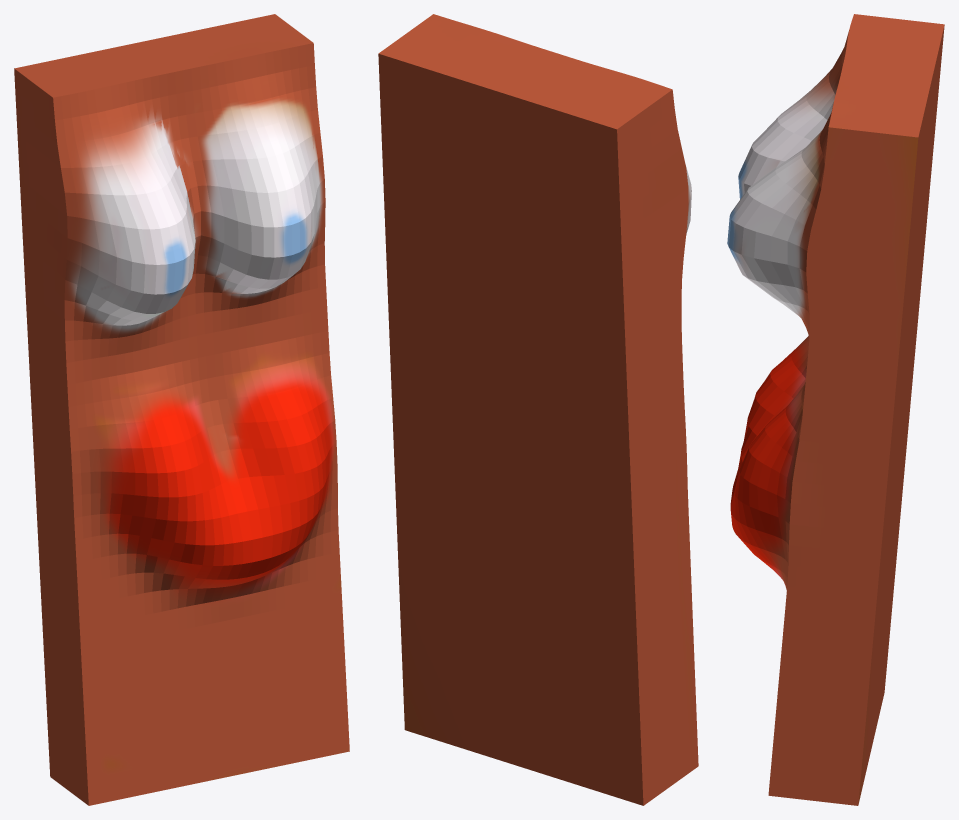
Rendered from hairy brick emnime 1.fbx.
The picture shows the model from 3 angles, left to right: view 1: azimuth 30°, elevation 25°; view 2: azimuth 150°, elevation 25°; view 3: azimuth 270°, elevation 25°; orthographic projection. The views are drawn at different scales.
Parts seen in each view (by area): view 1: Cube; view 2: Cube; view 3: Cube.
Part boxes in pixels (x1,y1,x2,y2): Cube: (14,14,349,805); Cube: (378,14,698,805); Cube: (727,14,944,805).
Size of the model in its own units: 129 by 329 by 95.9.
